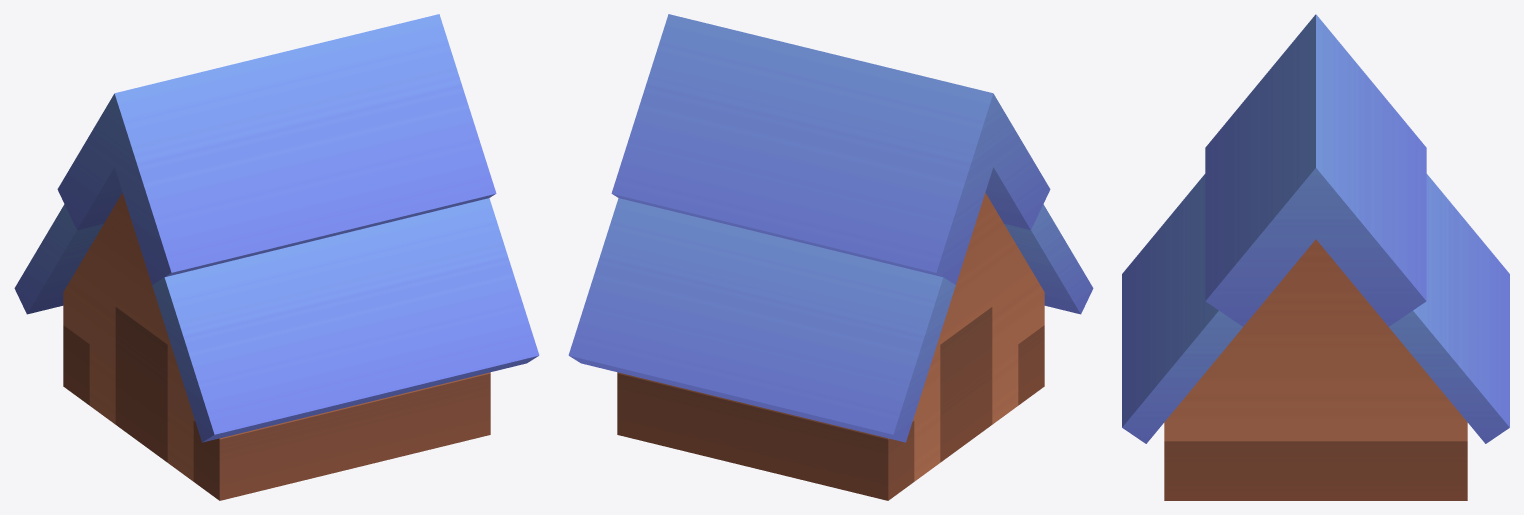
The model's file is house.fbx.
3 views of the same model, side by side, from view 1: azimuth 30°, elevation 25°; view 2: azimuth 150°, elevation 25°; view 3: azimuth 270°, elevation 25° (orthographic). The views are drawn at different scales.
Visible parts, largest first — view 1: unit_house; view 2: unit_house; view 3: unit_house.
Boxes of the visible parts, bbox=[...] form: unit_house: bbox=[14, 14, 539, 500]; unit_house: bbox=[568, 14, 1093, 500]; unit_house: bbox=[1122, 14, 1509, 500].
Size of the model in its own units: 36 by 37.81 by 38.4.
